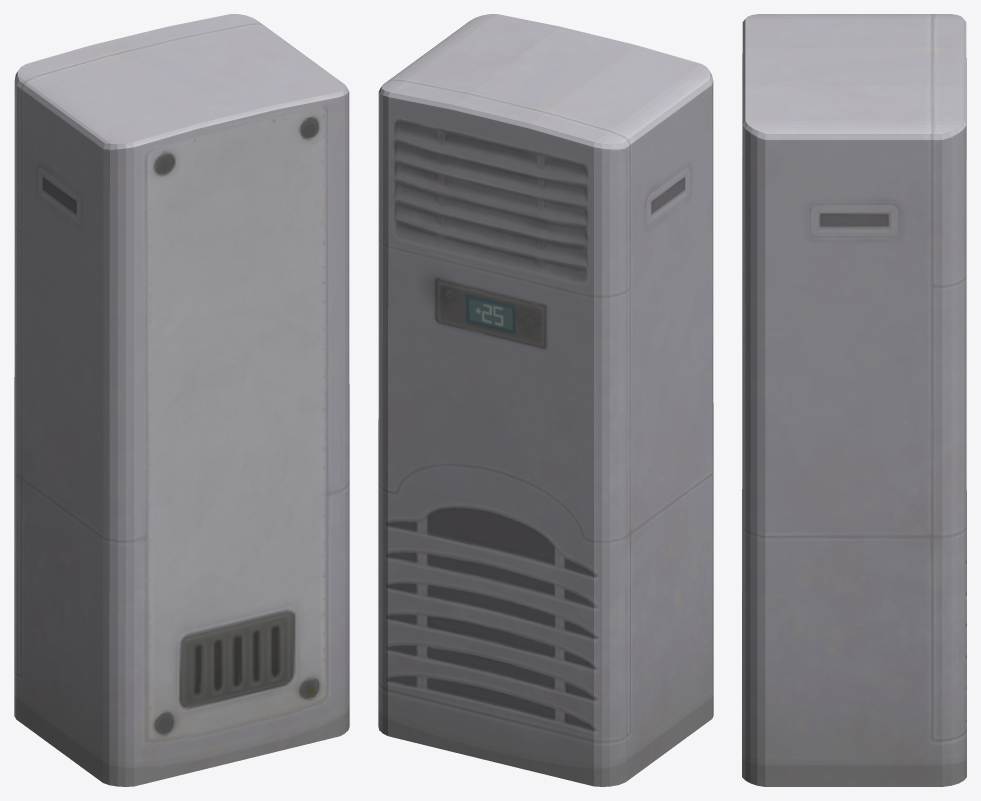
Rendered from P_Airconditioner_004_S1_M01.obj.
3 views of the same model, side by side, from view 1: azimuth 30°, elevation 25°; view 2: azimuth 150°, elevation 25°; view 3: azimuth 270°, elevation 25° (orthographic). The views are drawn at different scales.
Size of the model in its own units: 0.8054 by 2.03 by 0.6267.
1 material, 1 textured.
